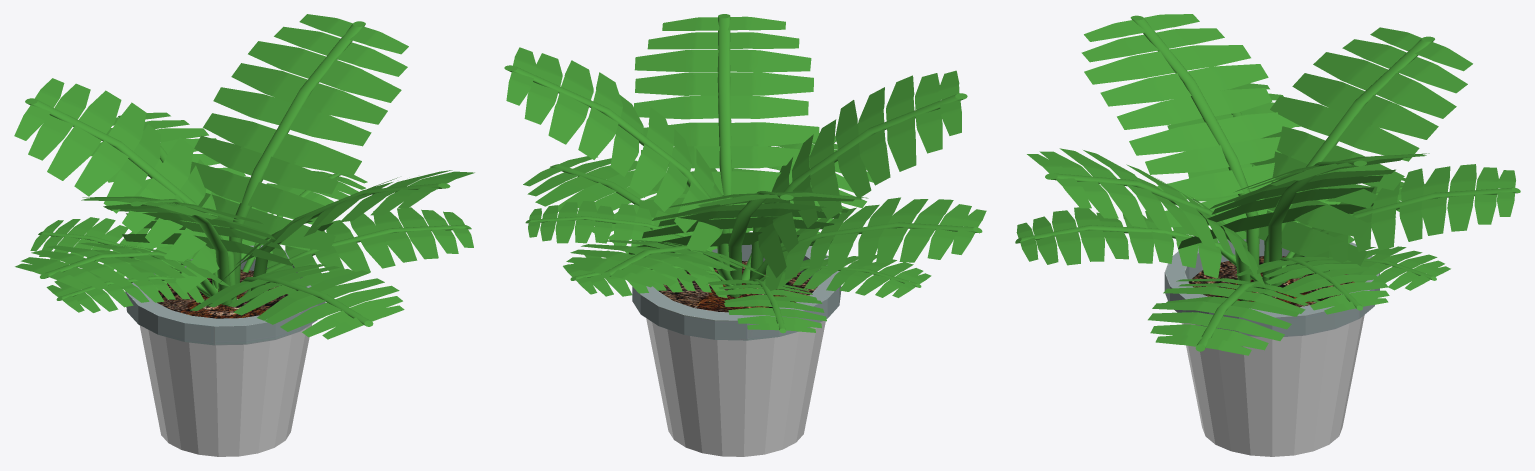
Rendered from pottedplant2.fbx.
3 renders of one model, left to right at view 1: azimuth 30°, elevation 25°; view 2: azimuth 150°, elevation 25°; view 3: azimuth 270°, elevation 25°, orthographic. The views are drawn at different scales.
Visible parts, largest first — view 1: pasted__pasted__group13_pasted__group12_pasted__pasted__pCyl, pPipe2, pasted__group13_pasted__group12_pasted__pasted__pCylinder1, group11_pasted__pPlane1, group14_pasted__group12_pasted__pasted__pCylinder1, pasted__pCylinder1, pasted__pasted__group14_pasted__group12_pasted__pasted__pCyl, pasted__group14_pasted__group12_pasted__pasted__pCylinder1, group16_pasted__group15_pasted__pasted__group12_pasted__past, group15_pasted__group12_pasted__pasted__pCylinder1, group13_pasted__group12_pasted__pasted__pCylinder1, group19; view 2: pPipe2, pasted__group14_pasted__group12_pasted__pasted__pCylinder1, pasted__pasted__group13_pasted__group12_pasted__pasted__pCyl, pasted__pasted__group14_pasted__group12_pasted__pasted__pCyl, pasted__pCylinder1, pasted__group13_pasted__group12_pasted__pasted__pCylinder1, group13_pasted__group12_pasted__pasted__pCylinder1, group19, group14_pasted__group12_pasted__pasted__pCylinder1, group15_pasted__group12_pasted__pasted__pCylinder1, group16_pasted__group15_pasted__pasted__group12_pasted__past, group17_pasted__group15_pasted__pasted__group12_pasted__past (+1 smaller); view 3: pasted__pasted__group14_pasted__group12_pasted__pasted__pCyl, pasted__group13_pasted__group12_pasted__pasted__pCylinder1, pPipe2, group13_pasted__group12_pasted__pasted__pCylinder1, pasted__group14_pasted__group12_pasted__pasted__pCylinder1, group14_pasted__group12_pasted__pasted__pCylinder1, group11_pasted__pPlane1, pasted__pasted__group13_pasted__group12_pasted__pasted__pCyl, group19, group17_pasted__group15_pasted__pasted__group12_pasted__past, pasted__pCylinder1.
Boxes of the visible parts, x1,y1,x2,y2 form: pasted__pasted__group13_pasted__group12_pasted__pasted__pCyl: (190, 14, 408, 283); pPipe2: (125, 245, 325, 456); pasted__group13_pasted__group12_pasted__pasted__pCylinder1: (14, 78, 236, 306); group11_pasted__pPlane1: (190, 264, 404, 339); group14_pasted__group12_pasted__pasted__pCylinder1: (243, 207, 473, 301); pasted__pCylinder1: (15, 242, 229, 296); pasted__pasted__group14_pasted__group12_pasted__pasted__pCyl: (81, 196, 292, 304); pasted__group14_pasted__group12_pasted__pasted__pCylinder1: (219, 170, 474, 307); group16_pasted__group15_pasted__pasted__group12_pasted__past: (46, 264, 210, 312); group15_pasted__group12_pasted__pasted__pCylinder1: (30, 217, 209, 297); group13_pasted__group12_pasted__pasted__pCylinder1: (90, 112, 273, 288); group19: (242, 171, 367, 272); pPipe2: (632, 244, 841, 456); pasted__group14_pasted__group12_pasted__pasted__pCylinder1: (634, 14, 822, 233); pasted__pasted__group13_pasted__group12_pasted__pasted__pCyl: (504, 47, 730, 274); pasted__pasted__group14_pasted__group12_pasted__pasted__pCyl: (750, 70, 967, 278); pasted__pCylinder1: (746, 197, 986, 290); pasted__group13_pasted__group12_pasted__pasted__pCylinder1: (628, 191, 868, 297); group13_pasted__group12_pasted__pasted__pCylinder1: (566, 239, 769, 289); group19: (525, 201, 712, 257); group14_pasted__group12_pasted__pasted__pCylinder1: (523, 156, 750, 290); group15_pasted__group12_pasted__pasted__pCylinder1: (706, 279, 826, 333); group16_pasted__group15_pasted__pasted__group12_pasted__past: (755, 255, 931, 297); group17_pasted__group15_pasted__pasted__group12_pasted__past: (563, 250, 742, 298); pasted__pasted__group14_pasted__group12_pasted__pasted__pCyl: (1081, 14, 1328, 279); pasted__group13_pasted__group12_pasted__pasted__pCylinder1: (1244, 27, 1472, 296); pPipe2: (1164, 239, 1379, 456); group13_pasted__group12_pasted__pasted__pCylinder1: (1282, 164, 1520, 274); pasted__group14_pasted__group12_pasted__pasted__pCylinder1: (1027, 148, 1265, 301); group14_pasted__group12_pasted__pasted__pCylinder1: (1148, 278, 1319, 355); group11_pasted__pPlane1: (1015, 207, 1262, 281); pasted__pasted__group13_pasted__group12_pasted__pasted__pCyl: (1178, 153, 1429, 286); group19: (1235, 257, 1389, 314); group17_pasted__group15_pasted__pasted__group12_pasted__past: (1276, 246, 1450, 290); pasted__pCylinder1: (1167, 83, 1340, 246).
Bounding box in the file's own units: 548 × 405 × 523.
6 materials, 1 textured.
